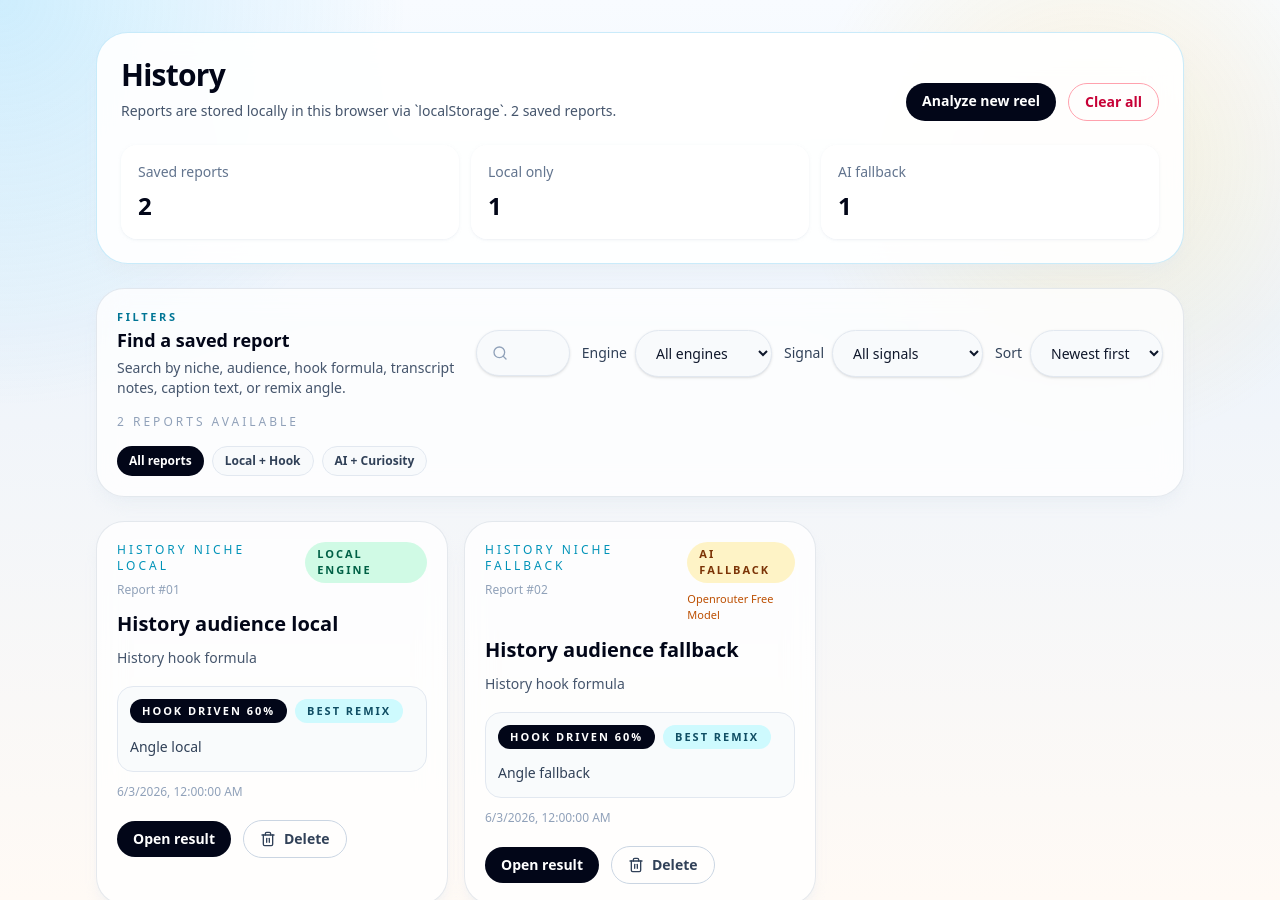
Test: HistoryPage › shows engine badges and filters saved reports by engine mode
Expected: the text "Openrouter Free Model" is shown, [687,590,774,622]
Select "AI fallback" in the dropdown named "Filter saved reports by engine" at (704, 353), box [635,330,772,377]
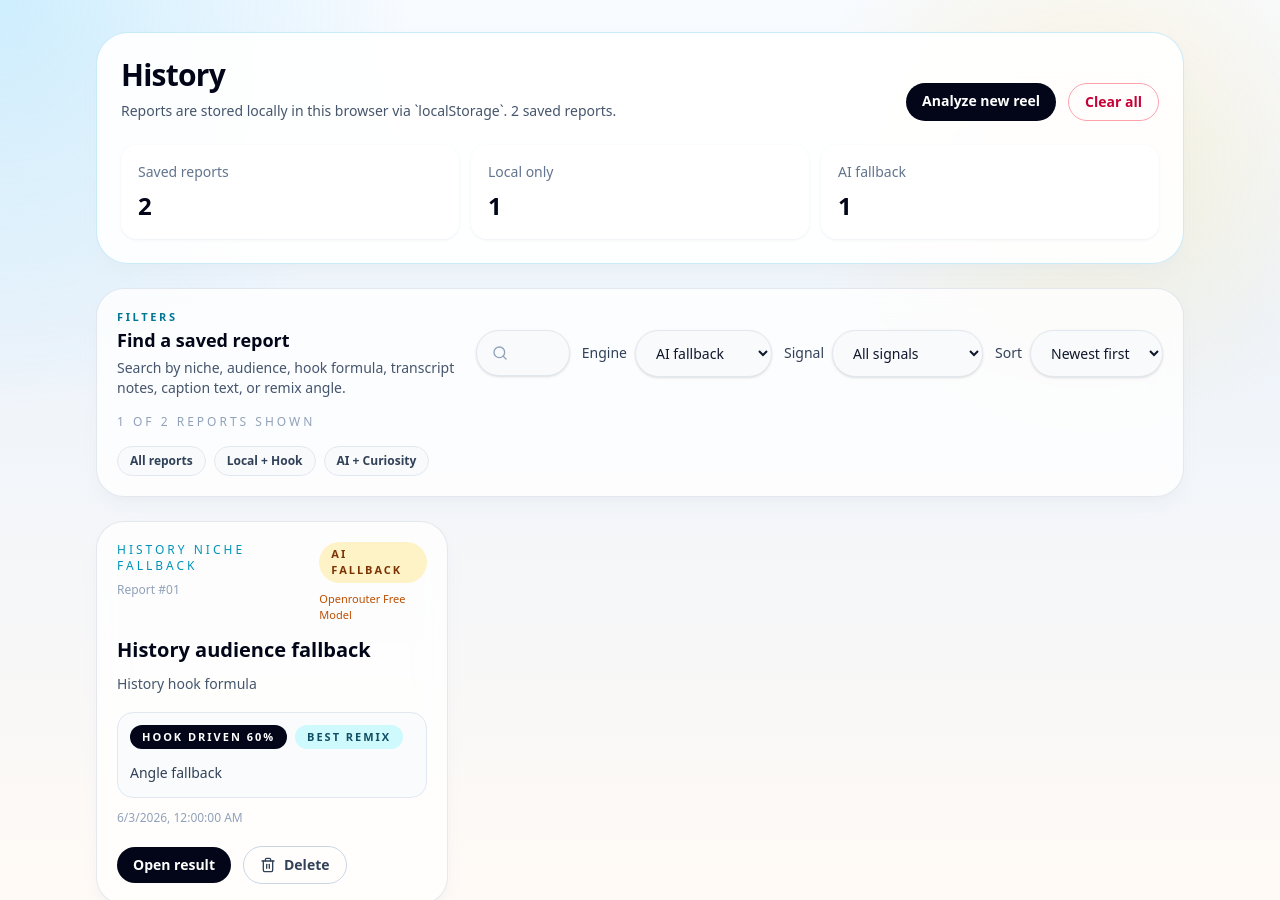
Expected: the text "History niche fallback" is shown, [117,540,245,574]
Result: the text "History niche local" is gone
Result: the text "1 of 2 reports shown" is shown at [117,412,315,430]
